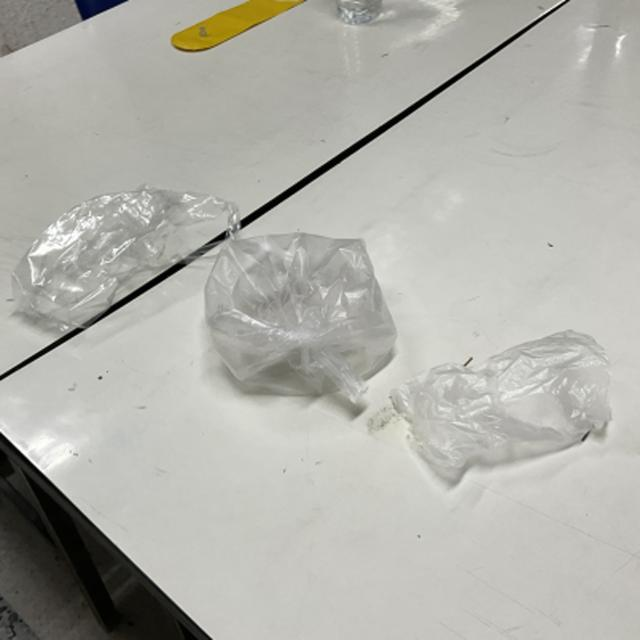Single-layer Plastic: (11, 185, 239, 331), (391, 330, 610, 481), (205, 232, 396, 402)
